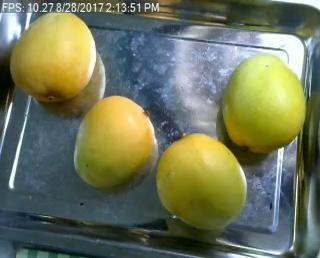Mango: (8, 8, 96, 106), (157, 133, 245, 230), (221, 52, 305, 153), (69, 94, 155, 190)
